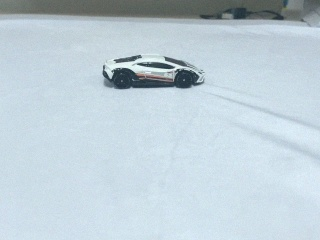toy_car: (102, 54, 206, 89)
